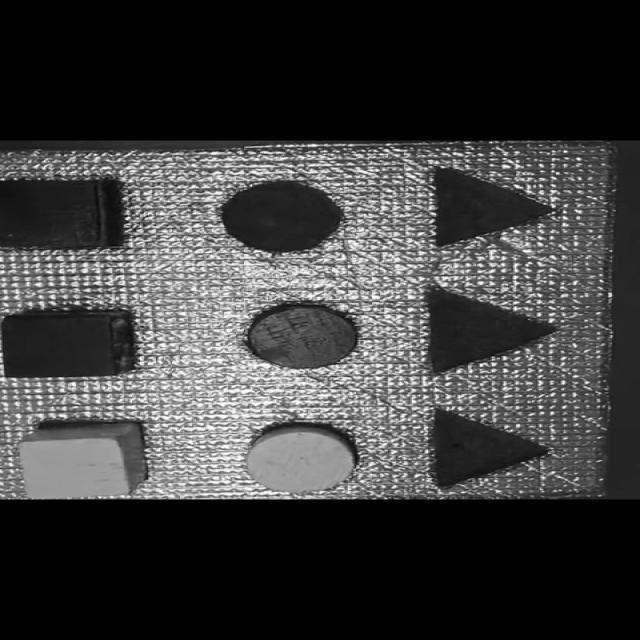bcube: (0, 178, 115, 250)
mtcircle: (217, 182, 345, 254)
mttriangle: (422, 285, 558, 373), (426, 168, 558, 248), (429, 409, 550, 490)
rcircle: (233, 300, 368, 371)
rcube: (1, 312, 132, 378)
wb: (0, 142, 615, 500)
ycircle: (244, 424, 358, 494)
ycube: (13, 420, 148, 499)
